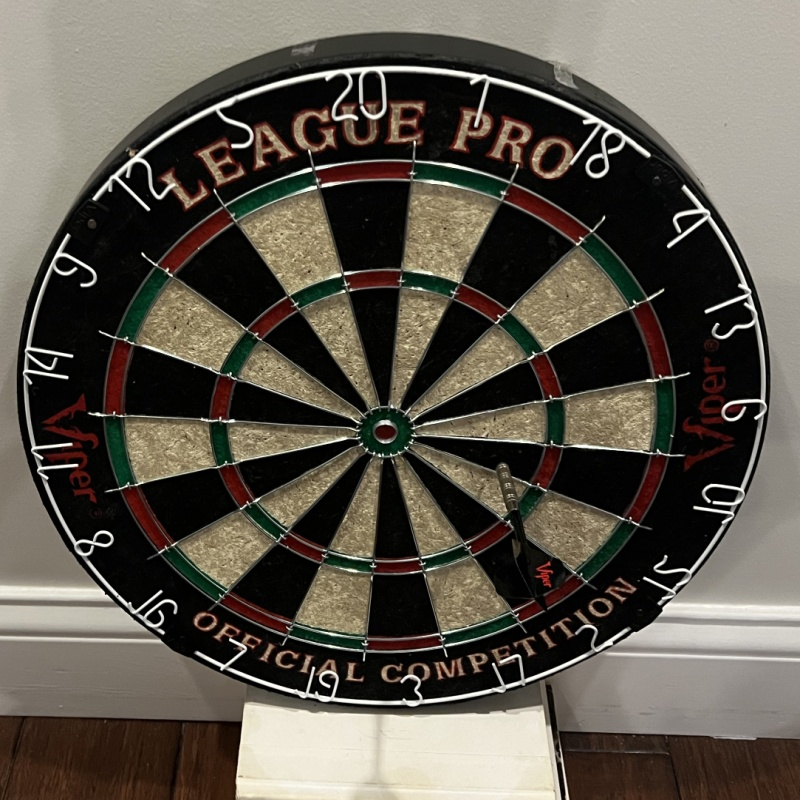dart: (494, 458, 515, 481)
eleven: (31, 440, 80, 481)
six: (719, 397, 767, 423)
three: (399, 673, 419, 708)
twenty: (329, 67, 388, 121)
